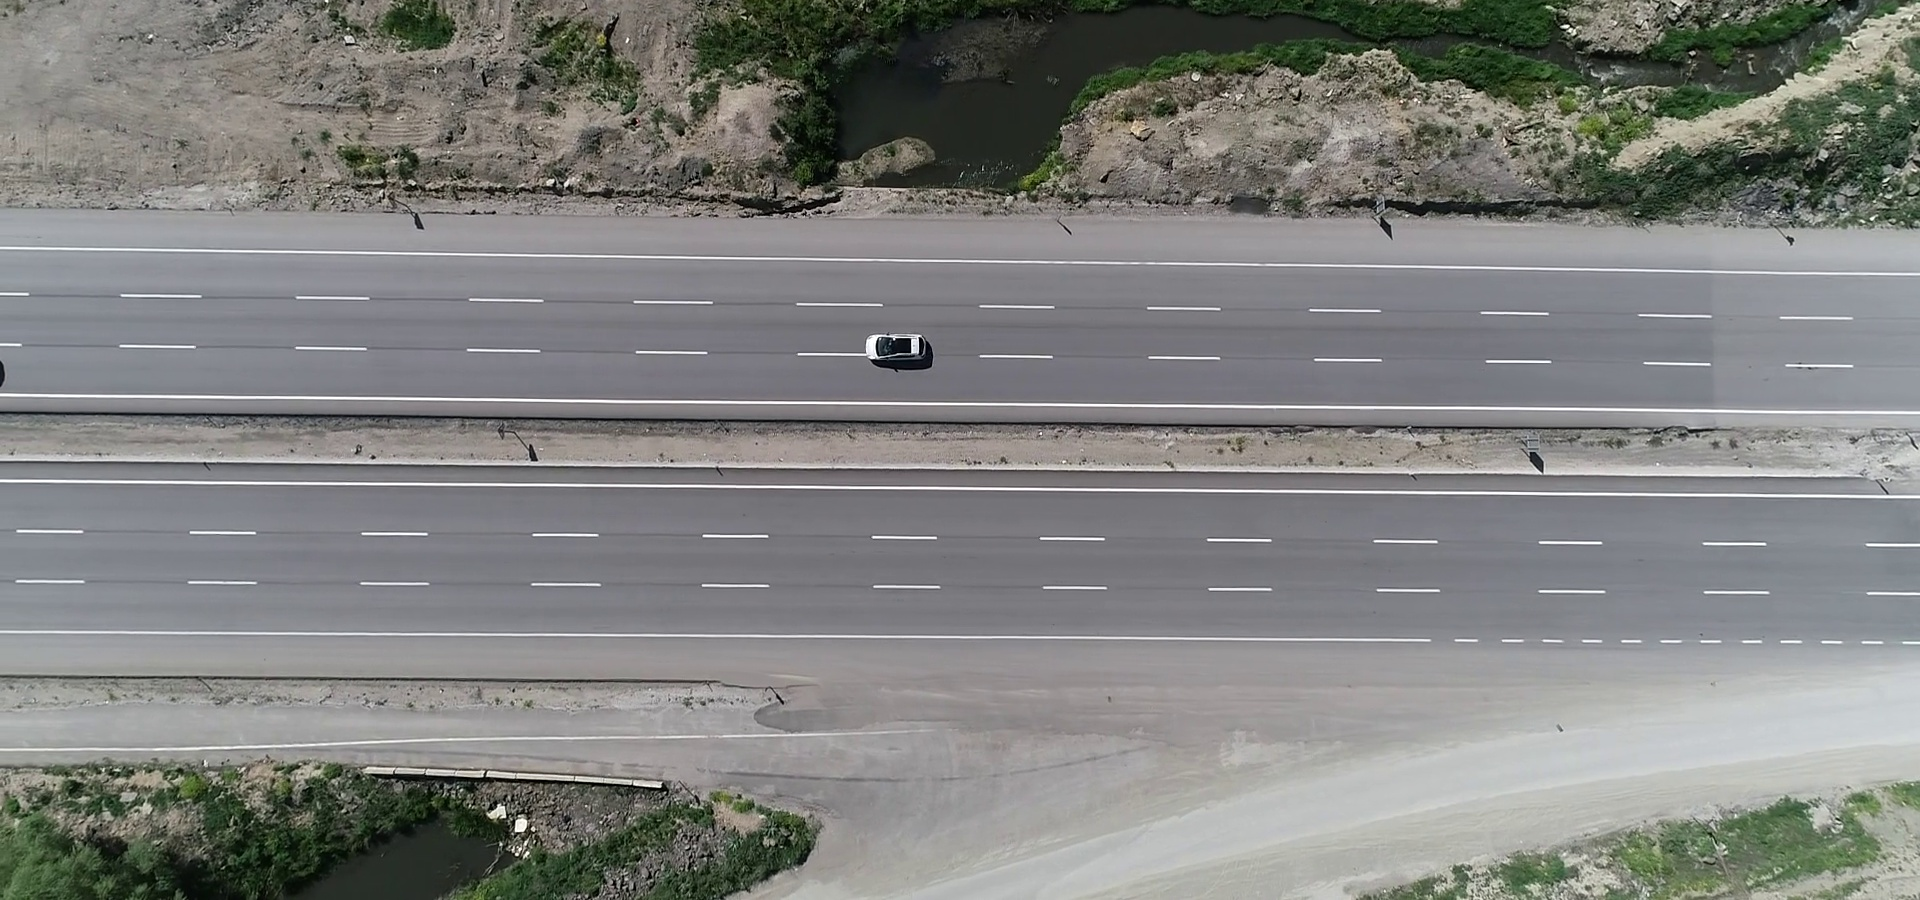araba: (860, 328, 939, 371)
